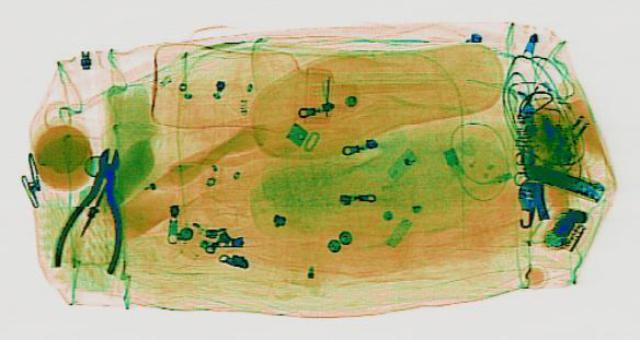Pliers: (46, 145, 144, 271)
